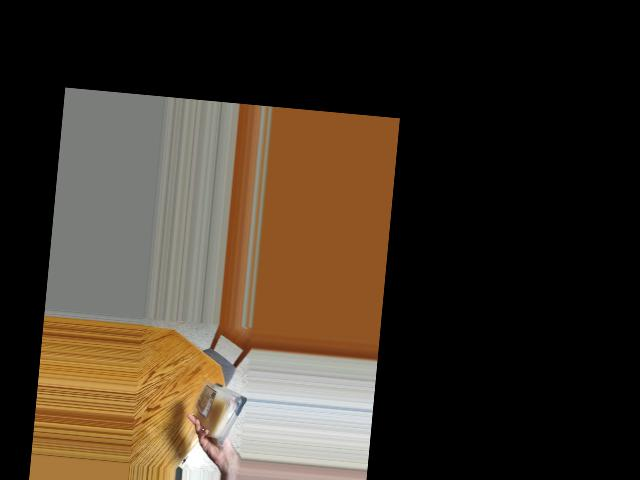cheese: (192, 381, 244, 440)
